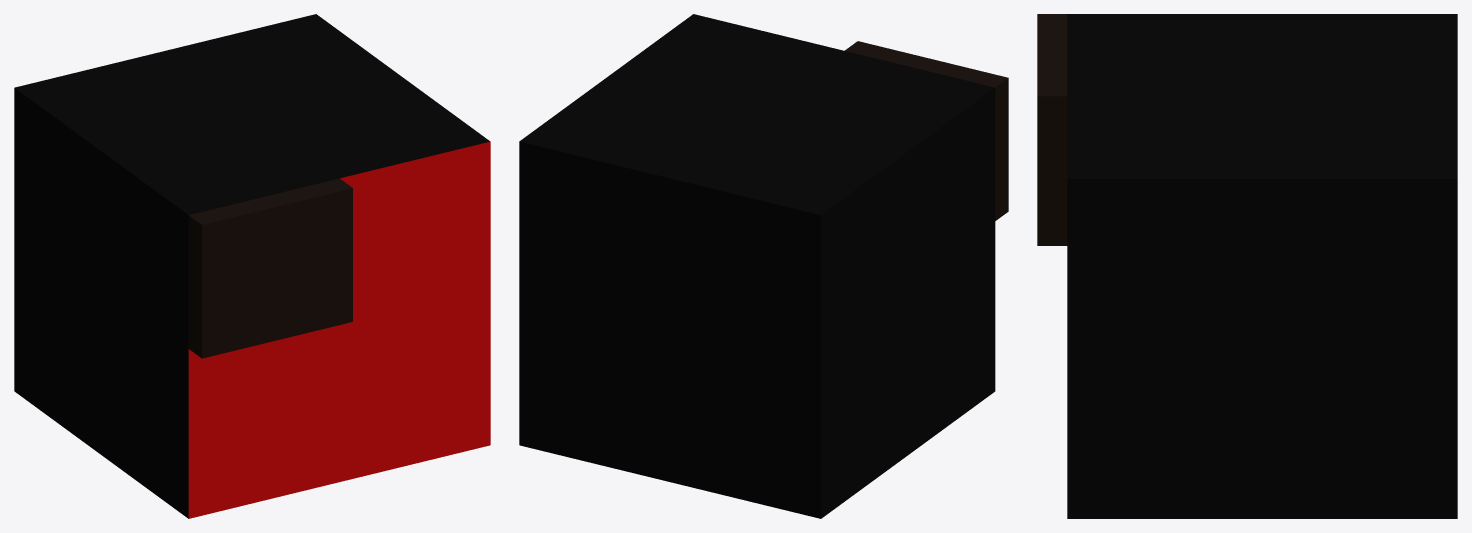
3 views of the same model, side by side, from view 1: azimuth 30°, elevation 25°; view 2: azimuth 150°, elevation 25°; view 3: azimuth 270°, elevation 25° (orthographic). The views are drawn at different scales.
Visible parts, largest first — view 1: HeadMesh.001, HairMesh.001; view 2: HeadMesh.001, HairMesh.001; view 3: HeadMesh.001, HairMesh.001.
Part boxes in pixels (left/top/right/bottom): HeadMesh.001: left=14, top=14, right=490, bottom=518; HairMesh.001: left=188, top=178, right=352, bottom=358; HeadMesh.001: left=519, top=14, right=995, bottom=518; HairMesh.001: left=844, top=41, right=1008, bottom=220; HeadMesh.001: left=1067, top=14, right=1457, bottom=518; HairMesh.001: left=1037, top=14, right=1067, bottom=245.
Size of the model in its own units: 0.52 by 0.5 by 0.56.
2 materials, 2 textured.
